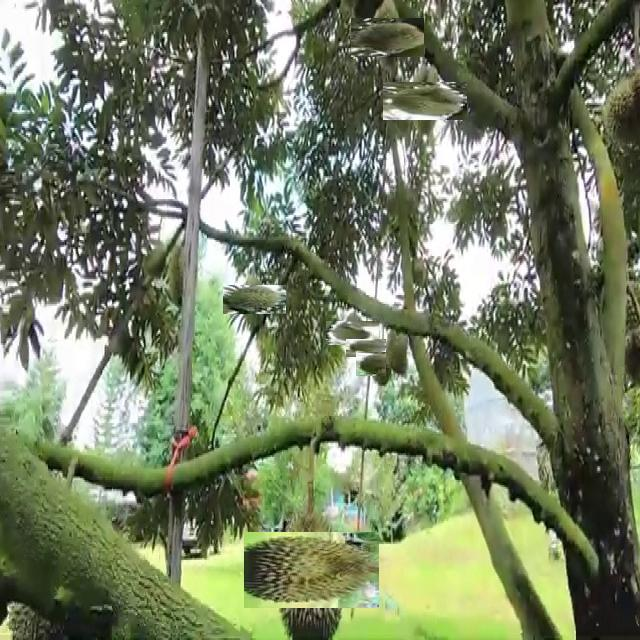durian: (258, 517, 364, 623), (394, 71, 456, 132), (600, 66, 639, 158), (359, 10, 416, 66), (231, 276, 278, 324), (386, 320, 412, 382), (333, 313, 372, 352), (362, 346, 400, 383), (352, 332, 382, 364)
